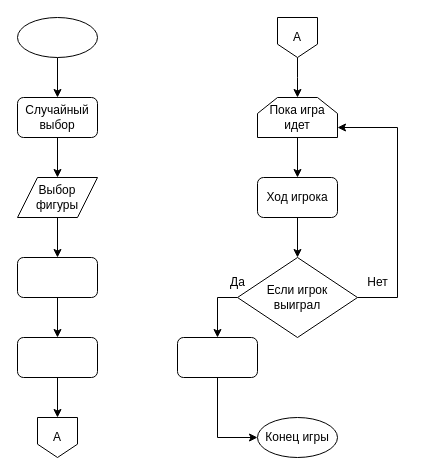
Some shapes in this 423 by 475 pixel diagram are drawn without their labels. The shapes that lost their labels are listed below. From the top down, each one's centre as x and y in pixels, then its label:
At pixel 57 37: "Старт".
At pixel 57 277: "Авто-выбор фигуры для 2-го игрока".
At pixel 57 357: "Старт игры".
At pixel 217 357: "Объявление победителя".
